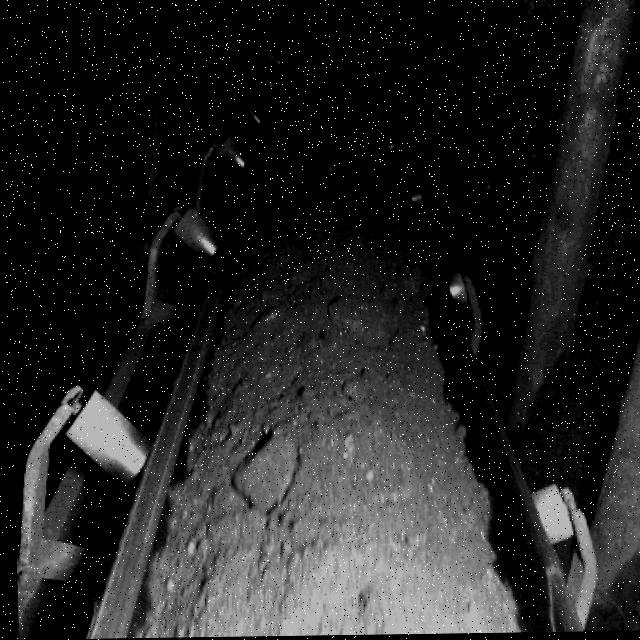large_sized_coal: (229, 438, 300, 511)
